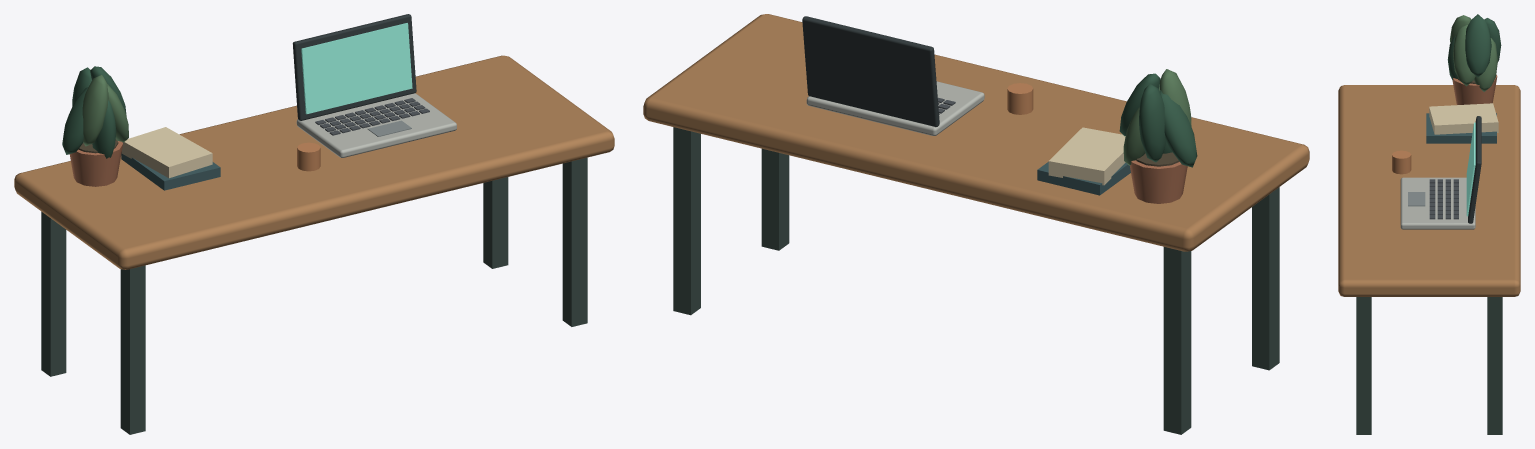
The model's file is desk-and-laptop.glb.
The picture shows the model from 3 angles, left to right: view 1: azimuth 30°, elevation 25°; view 2: azimuth 150°, elevation 25°; view 3: azimuth 270°, elevation 25°; orthographic projection. The views are drawn at different scales.
Bounding box in the file's own units: 2.2 × 1.29 × 0.85.
